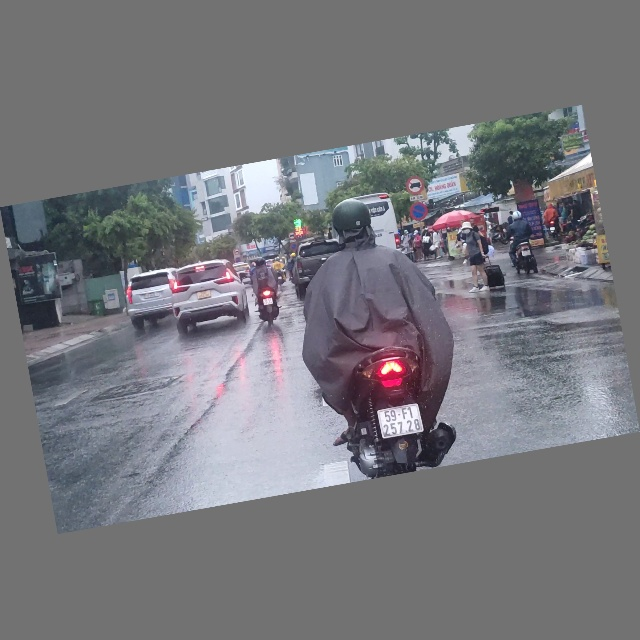P.106a*Xe tai: (403, 175, 427, 198), (287, 231, 297, 241)
P.131a: (407, 199, 430, 222), (289, 243, 299, 252)
